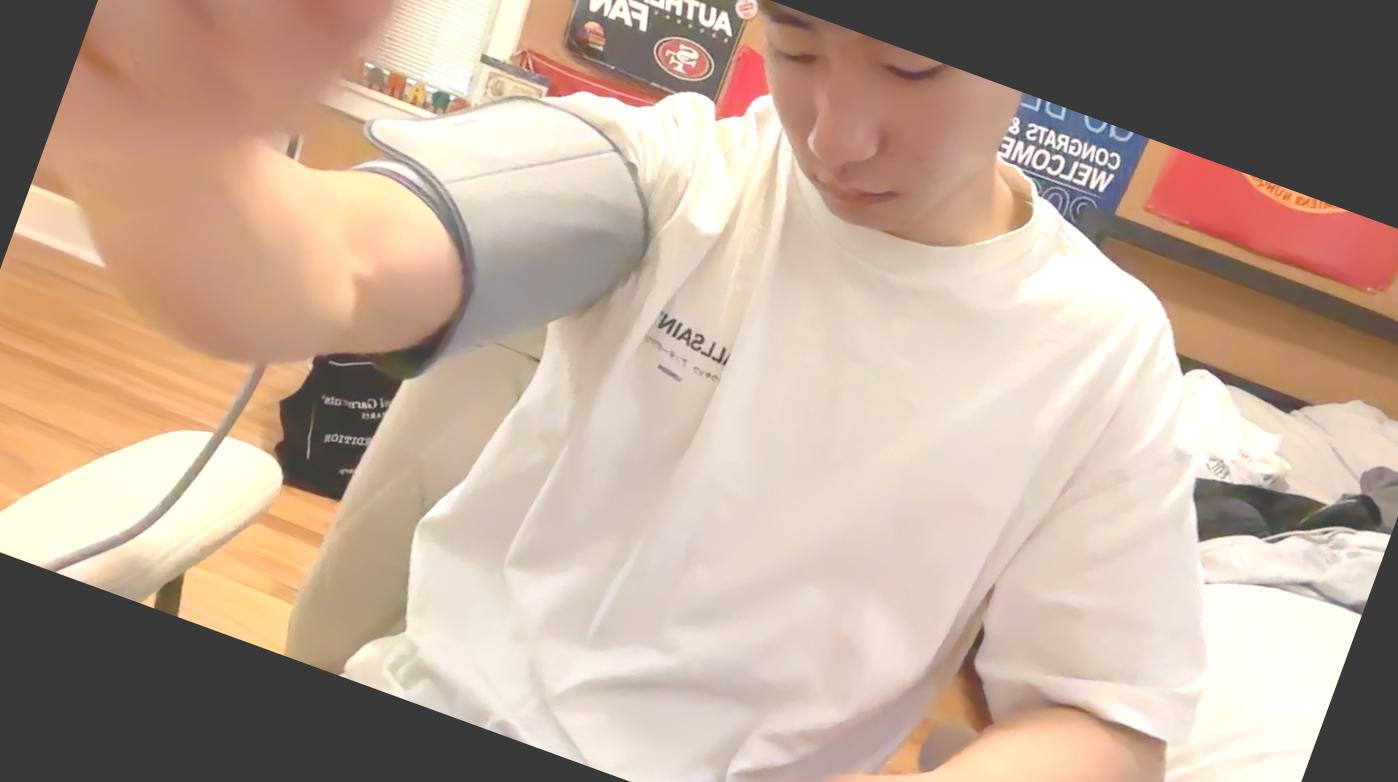cuff: (284, 38, 690, 447)
